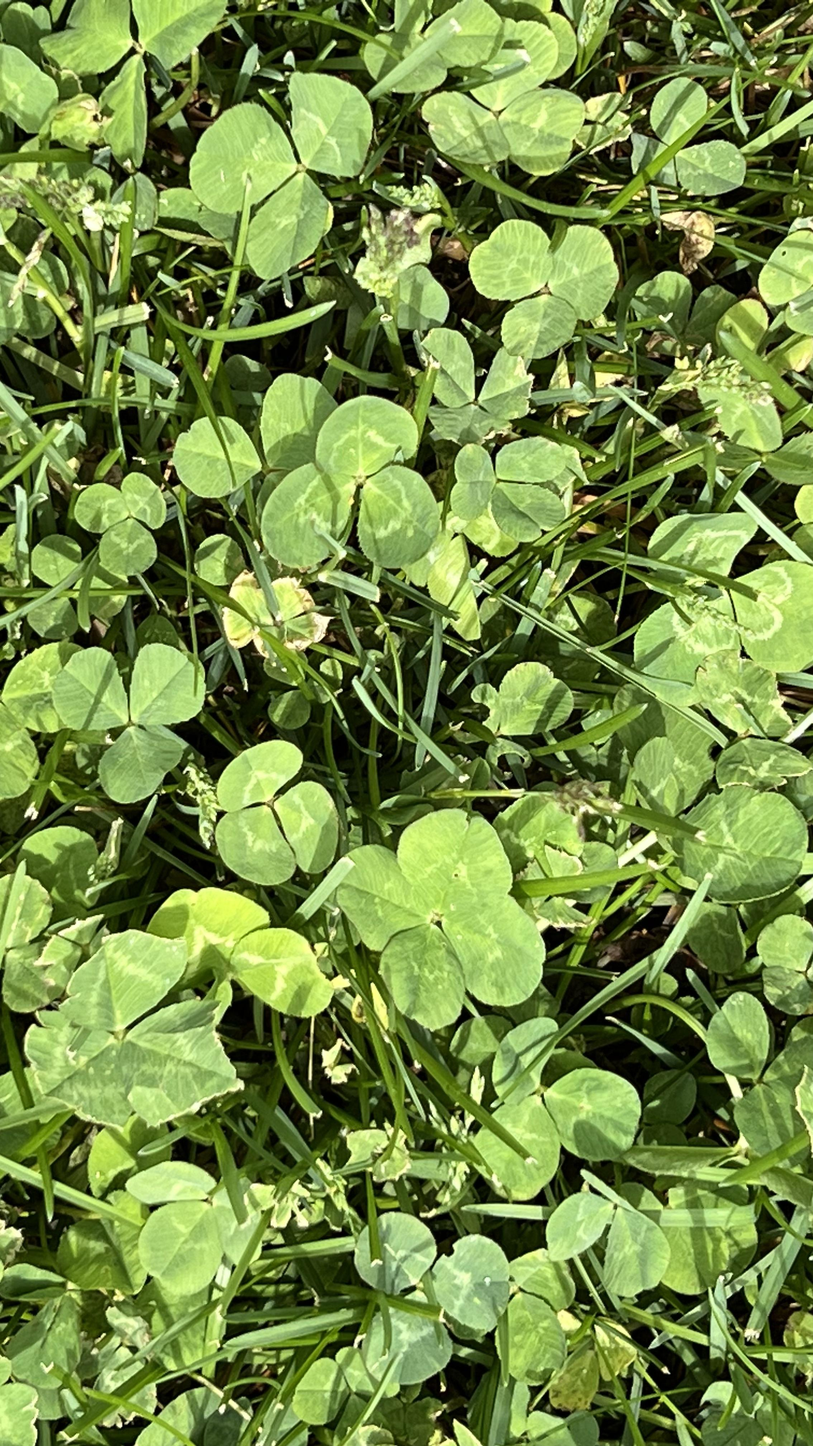4-Leaf-Clovers: (457, 470, 579, 843)
